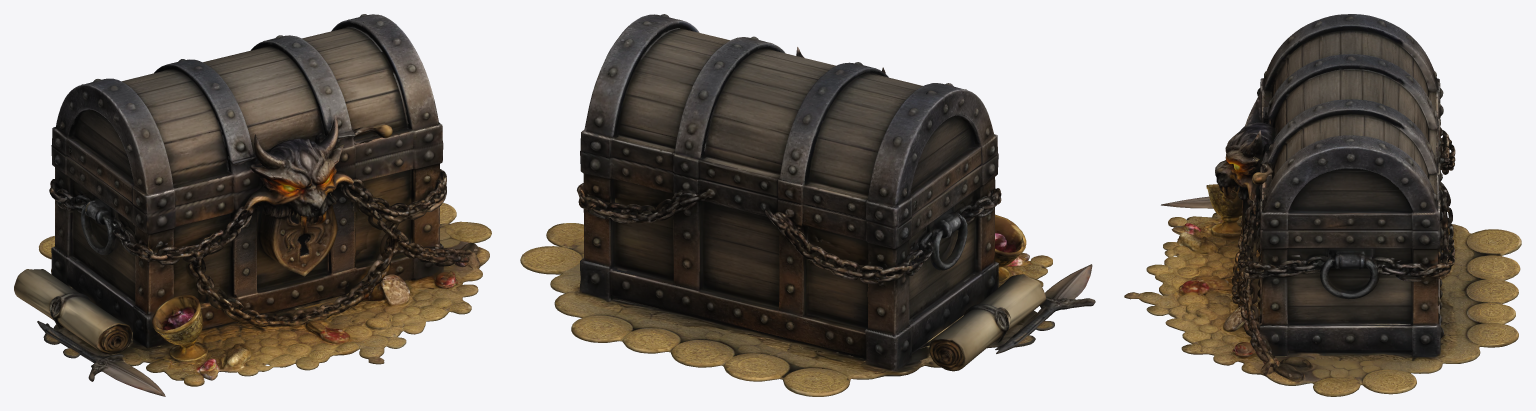
File: pixellabs-treasure-chest-4062.glb
The picture shows the model from 3 angles, left to right: view 1: azimuth 30°, elevation 25°; view 2: azimuth 150°, elevation 25°; view 3: azimuth 270°, elevation 25°; orthographic projection. The views are drawn at different scales.
Parts seen in each view (by area): view 1: node_0; view 2: node_0; view 3: node_0.
Boxes of the visible parts, left/top/right/bottom form: node_0: left=14, top=14, right=491, bottom=396; node_0: left=520, top=14, right=1095, bottom=396; node_0: left=1124, top=14, right=1521, bottom=396.
Size of the model in its own units: 1.03 by 0.4924 by 0.8291.
Materials: 1 (1 with a texture image).
